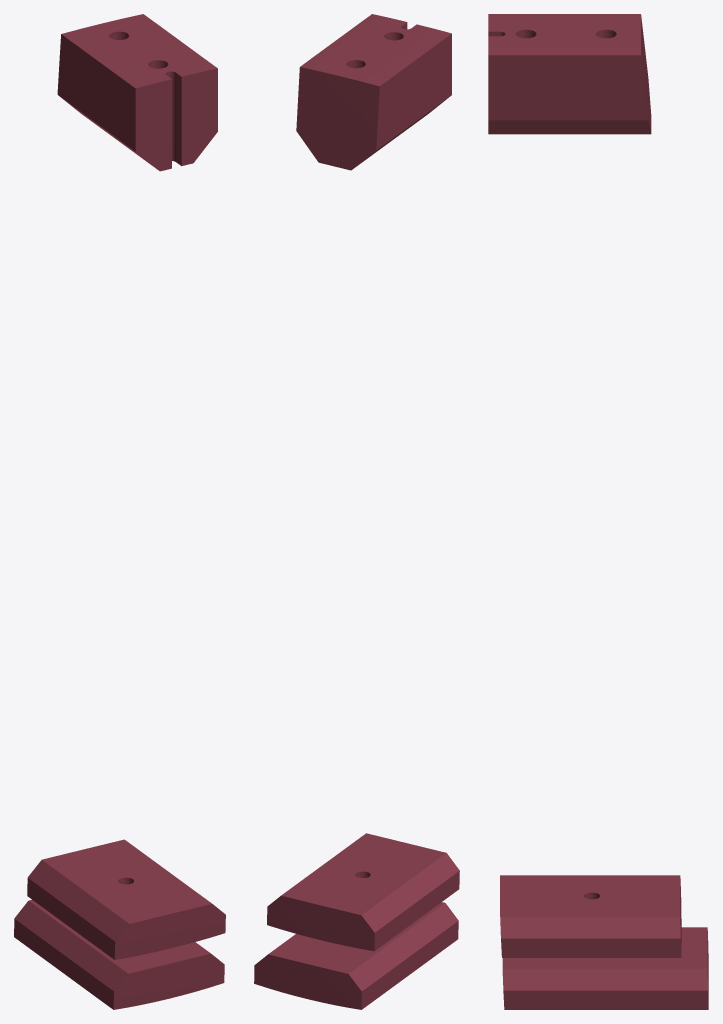
The model's file is Heel_Tail_Blocks_Collection.glb.
3 views of the same model, side by side, from view 1: azimuth 30°, elevation 25°; view 2: azimuth 150°, elevation 25°; view 3: azimuth 270°, elevation 25° (orthographic). The views are drawn at different scales.
Parts seen in each view (by area): view 1: Body_Tail_Block.005, Body_Heel_Block.004, Body_Heel_Block.005, Body_Tail_Block.004; view 2: Body_Tail_Block.005, Body_Heel_Block.004, Body_Tail_Block.004, Body_Heel_Block.005; view 3: Body_Tail_Block.005, Body_Heel_Block.004, Body_Tail_Block.004, Body_Heel_Block.005.
Part boxes in pixels (x1,y1,x2,y2): Body_Tail_Block.005: (27,839,225,959); Body_Heel_Block.004: (57,14,217,169); Body_Heel_Block.005: (73,23,217,171); Body_Tail_Block.004: (14,900,224,1009); Body_Tail_Block.005: (267,833,459,951); Body_Heel_Block.004: (296,22,451,170); Body_Tail_Block.004: (254,902,458,1009); Body_Heel_Block.005: (312,14,451,77); Body_Tail_Block.005: (500,875,681,957); Body_Heel_Block.004: (488,14,651,134); Body_Tail_Block.004: (502,927,708,1009); Body_Heel_Block.005: (488,14,616,55).
Size of the model in its own units: 0.0635 by 0.5078 by 0.1068.
